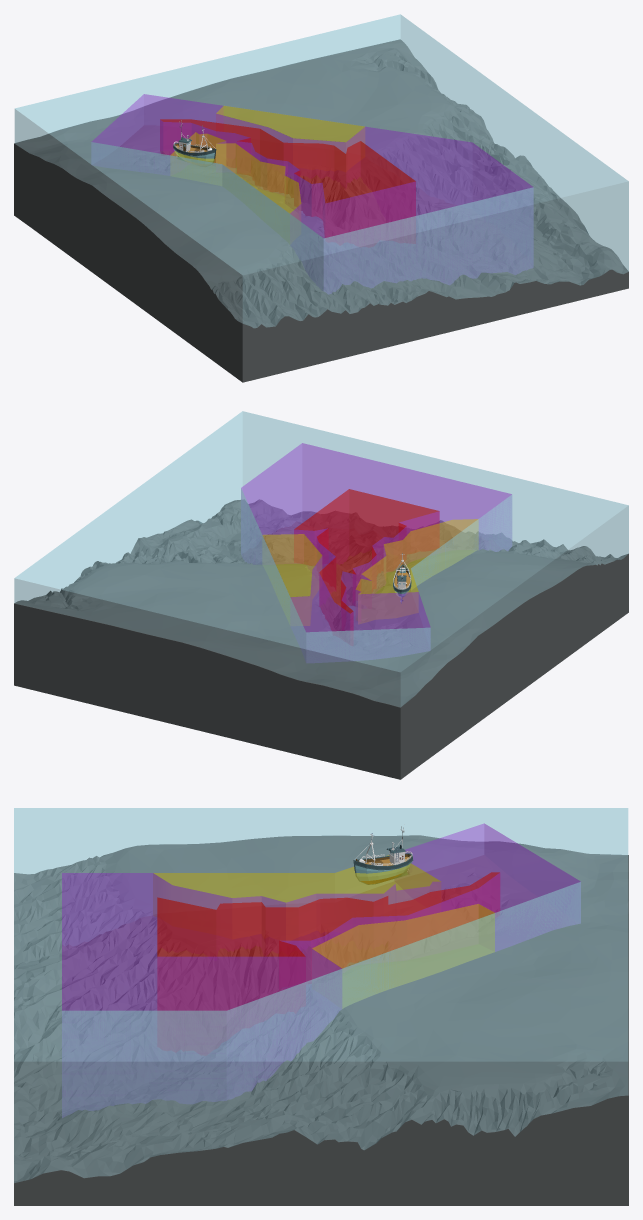
Rendered from MPAzones_map.glb.
3 renders of one model, top to bottom at view 1: azimuth 30°, elevation 25°; view 2: azimuth 150°, elevation 25°; view 3: azimuth 270°, elevation 25°, orthographic. The views are drawn at different scales.
Visible parts, largest first — view 1: map_lowpoly, outersquare, ZONE_2, ZONE_1, ZONE_3, polySurface31; view 2: map_lowpoly, outersquare, ZONE_2, ZONE_1, ZONE_3; view 3: map_lowpoly, outersquare, ZONE_2, ZONE_1, ZONE_3, polySurface31.
Part boxes in pixels (box(x1,y1,x2,y2)): map_lowpoly: box(14, 39, 628, 382); outersquare: box(14, 14, 628, 327); ZONE_2: box(92, 94, 533, 293); ZONE_1: box(160, 119, 415, 237); ZONE_3: box(170, 106, 364, 243); polySurface31: box(173, 142, 214, 166); map_lowpoly: box(14, 499, 628, 779); outersquare: box(14, 411, 628, 707); ZONE_2: box(241, 443, 511, 662); ZONE_1: box(294, 489, 439, 631); ZONE_3: box(262, 519, 478, 625); map_lowpoly: box(14, 835, 628, 1205); outersquare: box(14, 808, 628, 1182); ZONE_2: box(62, 823, 580, 1117); ZONE_1: box(157, 872, 499, 1010); ZONE_3: box(153, 855, 494, 1008); polySurface31: box(355, 853, 413, 884).
Size of what is drawn, in the model's own units: 0.2402 by 0.0811 by 0.246.
